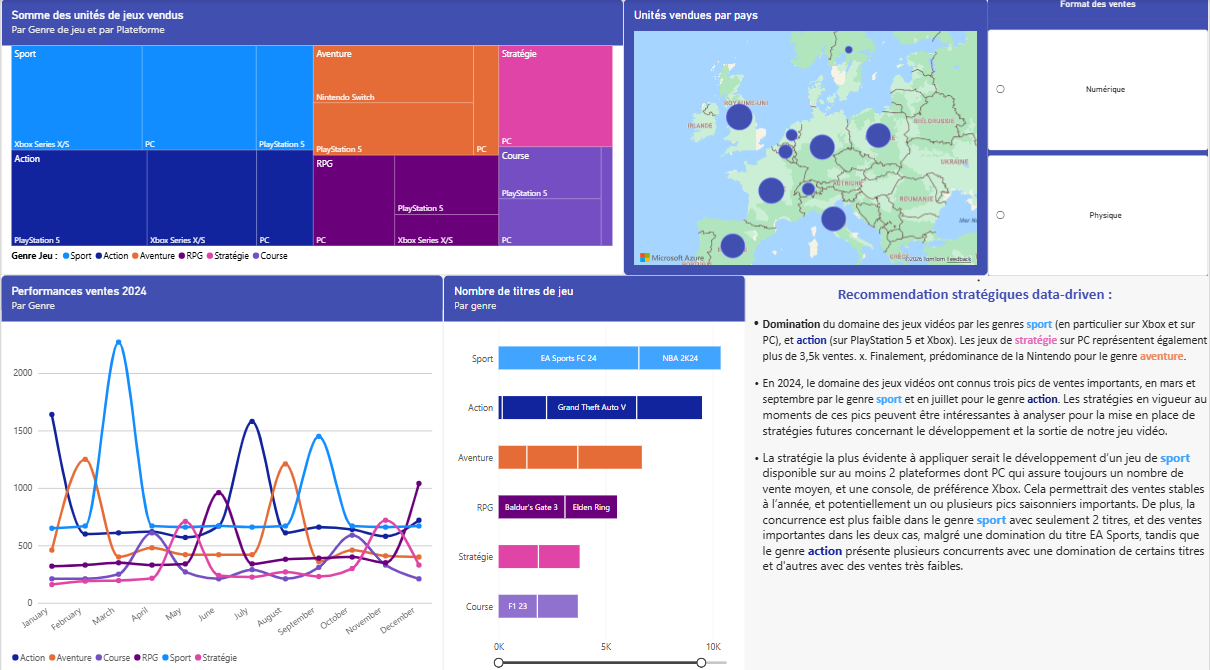

The page's visual inventory and layout, read from the dashboard file:
{"tool":"powerbi","page":{"name":"Page 1","canvas":[1920,1080],"ordinal":0},"visuals":[{"type":"treemap","title":"Somme des unités de jeux vendus","fields":{"Details":["Table.Plateforme"],"Group":["Table.Genre_Jeu"],"Values":["Sum(Table.Unites_Vendues_Jeu)"]},"box":[0,0,990,440],"z":0},{"type":"azureMap","title":"Unités vendues par pays","fields":{"Category":["Table.Pays_Vente_Europe"],"Size":["Sum(Table.Unites_Vendues_Jeu)"]},"box":[990,0,580,440],"z":1000},{"type":"lineChart","title":"Performances ventes 2024","fields":{"Category":["Table.Date_Vente.Variation.Date Hierarchy.Month"],"Series":["Table.Genre_Jeu"],"Y":["Sum(Table.Unites_Vendues_Jeu)"]},"box":[0,440,703.3,640],"z":2000},{"type":"advancedSlicerVisual","title":"Format des ventes","fields":{"Values":["Table.Format_Vente"]},"box":[1570,0,350,440],"z":3000},{"type":"textbox","box":[1183.3,440,736.7,640],"z":4000},{"type":"barChart","title":"Nombre de titres de jeu","fields":{"Category":["Table.Genre_Jeu"],"Series":["Table.Titre_Jeu"],"Y":["Sum(Table.Unites_Vendues_Jeu)"]},"box":[703.8,439,480,640],"z":5000}]}

Visuals, with their boxes in screenshot pixels (x1, y1, x2, y2), scaled from the page's 1920x1080 canvas onto the 1210x670 screenshot:
"Somme des unités de jeux vendus" treemap: bbox(0, 0, 624, 273)
"Unités vendues par pays" azureMap: bbox(624, 0, 989, 273)
"Performances ventes 2024" lineChart: bbox(0, 273, 443, 669)
"Format des ventes" advancedSlicerVisual: bbox(989, 0, 1209, 273)
textbox: bbox(746, 273, 1209, 669)
"Nombre de titres de jeu" barChart: bbox(444, 272, 746, 669)
